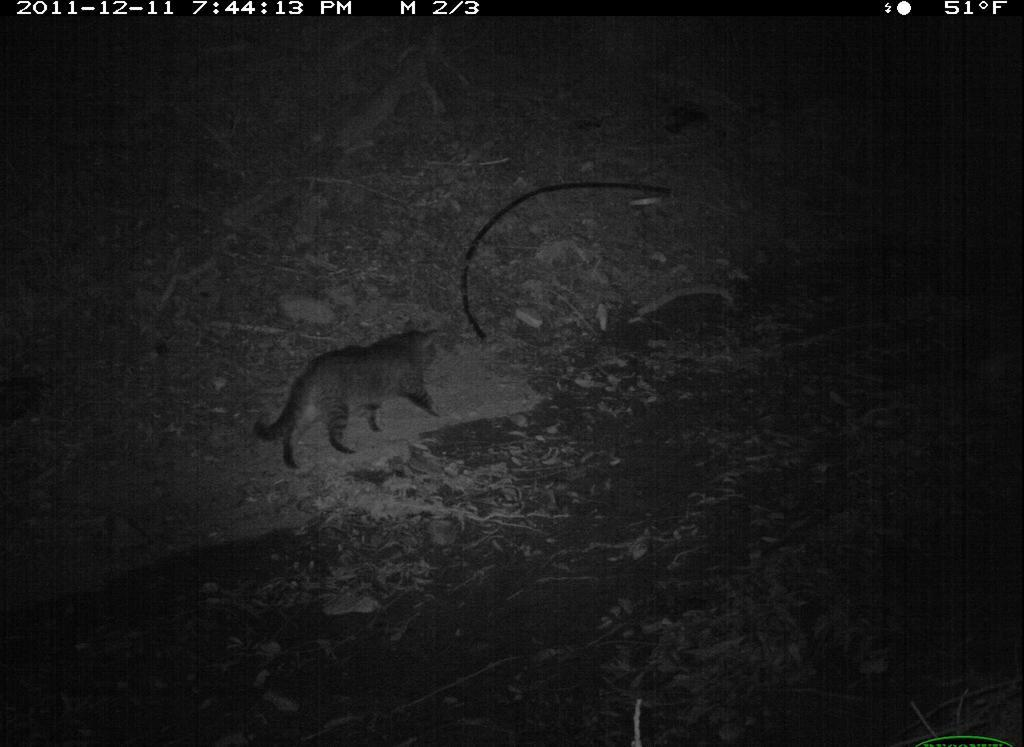cat: (244, 312, 466, 482)
